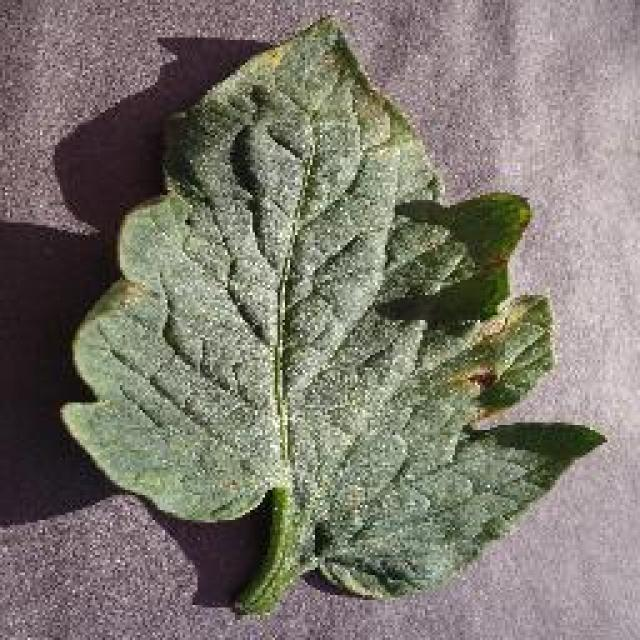Tomato___Target_Spot: (60, 18, 598, 610)
